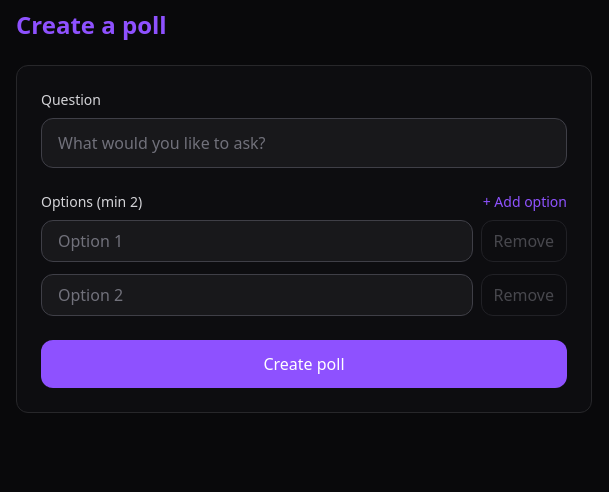
Test: CreatePoll › shows error when submitting without question
Click the button "Create poll".
click(304, 364)  # box [41,340,567,388]
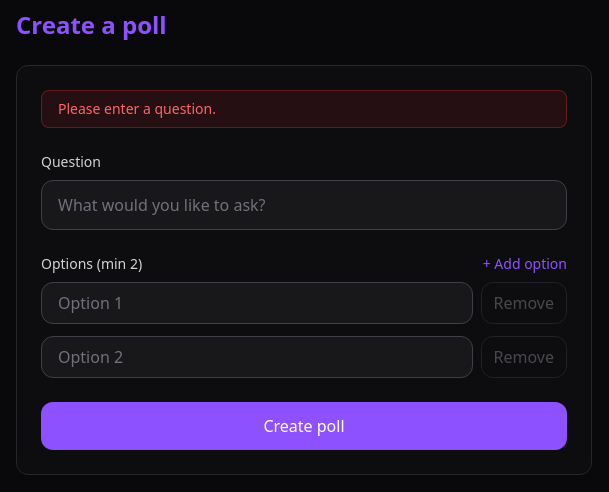
Result: the text "Please enter a question." is shown at [41,90,567,128]
